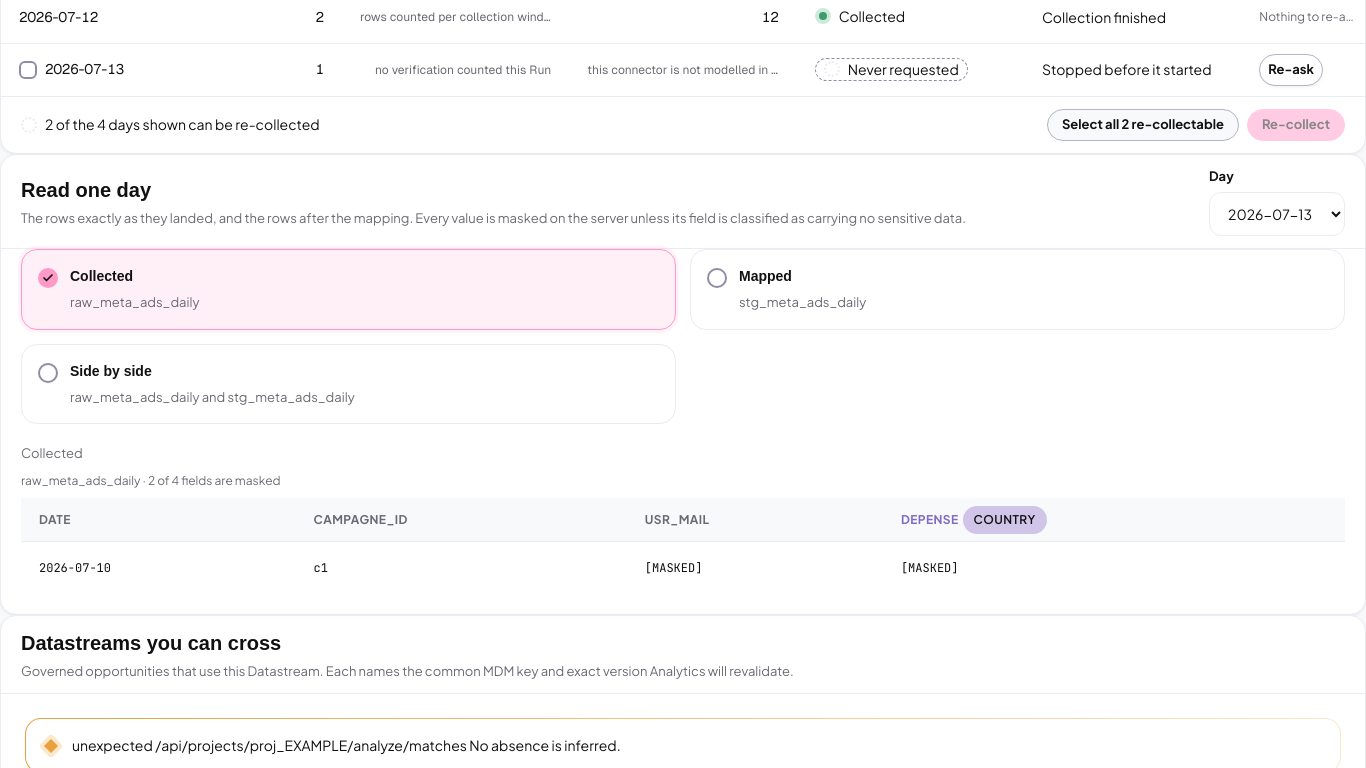
Scenario: Data tab, read by day › colours the pill of the paired header, and adds no fourth chip to it
(page scrolled)
Click the radio button labelled "Side by side" at x=111, y=371, box x1=21 y1=344 x2=676 y2=424
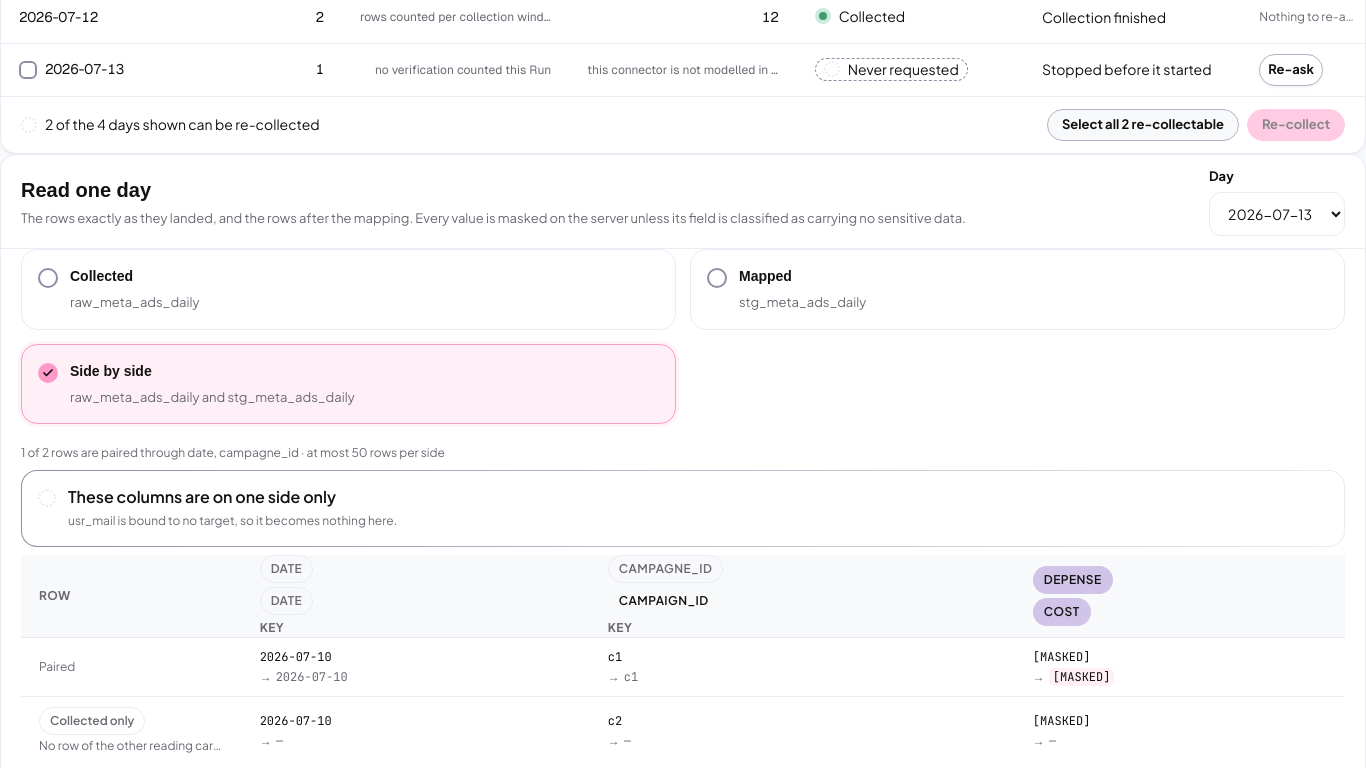
Check: the elements with test id "capability-marked-field" read "depense", "cost", in this order, box x1=1033 y1=566 x2=1113 y2=594; x1=1033 y1=598 x2=1090 y2=626
